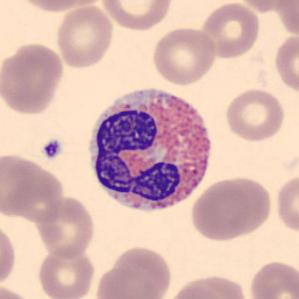Eosinophil: (81, 77, 219, 222)
Platelets: (41, 136, 63, 162)
RBC: (0, 40, 66, 116), (94, 244, 174, 299), (189, 176, 252, 242), (150, 25, 218, 86), (54, 3, 115, 70), (35, 194, 96, 260), (214, 173, 274, 240), (198, 1, 262, 60), (223, 87, 287, 142), (0, 150, 49, 220), (36, 244, 96, 299), (100, 0, 175, 32), (174, 272, 252, 299), (247, 258, 298, 299), (272, 32, 298, 96), (274, 170, 298, 238), (14, 0, 106, 14), (164, 279, 225, 299), (0, 219, 17, 288), (233, 0, 294, 13), (0, 282, 34, 299)
